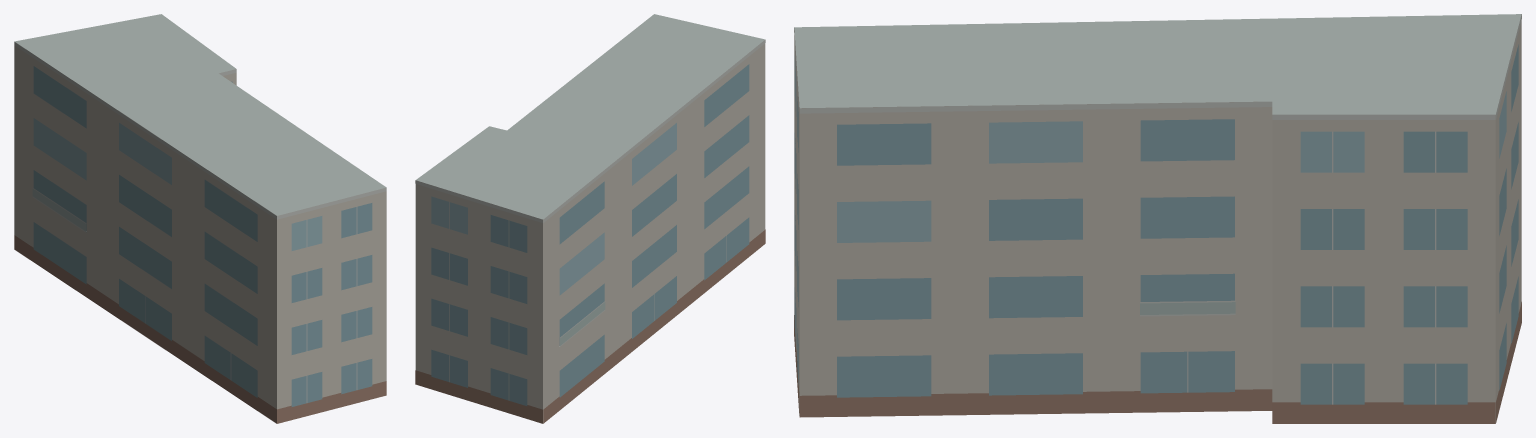
Rendered from survey-upis-32475005.glb.
3 views of the same model, side by side, from view 1: azimuth 30°, elevation 25°; view 2: azimuth 150°, elevation 25°; view 3: azimuth 270°, elevation 25° (orthographic). The views are drawn at different scales.
Visible parts, largest first — view 1: survey-upis-32475005.tmp; view 2: survey-upis-32475005.tmp; view 3: survey-upis-32475005.tmp.
Part boxes in pixels (left/top/right/bottom): survey-upis-32475005.tmp: left=14, top=14, right=386, bottom=423; survey-upis-32475005.tmp: left=415, top=14, right=765, bottom=423; survey-upis-32475005.tmp: left=794, top=14, right=1521, bottom=423.
Bounding box in the file's own units: 9.61 × 13.75 × 29.32.
